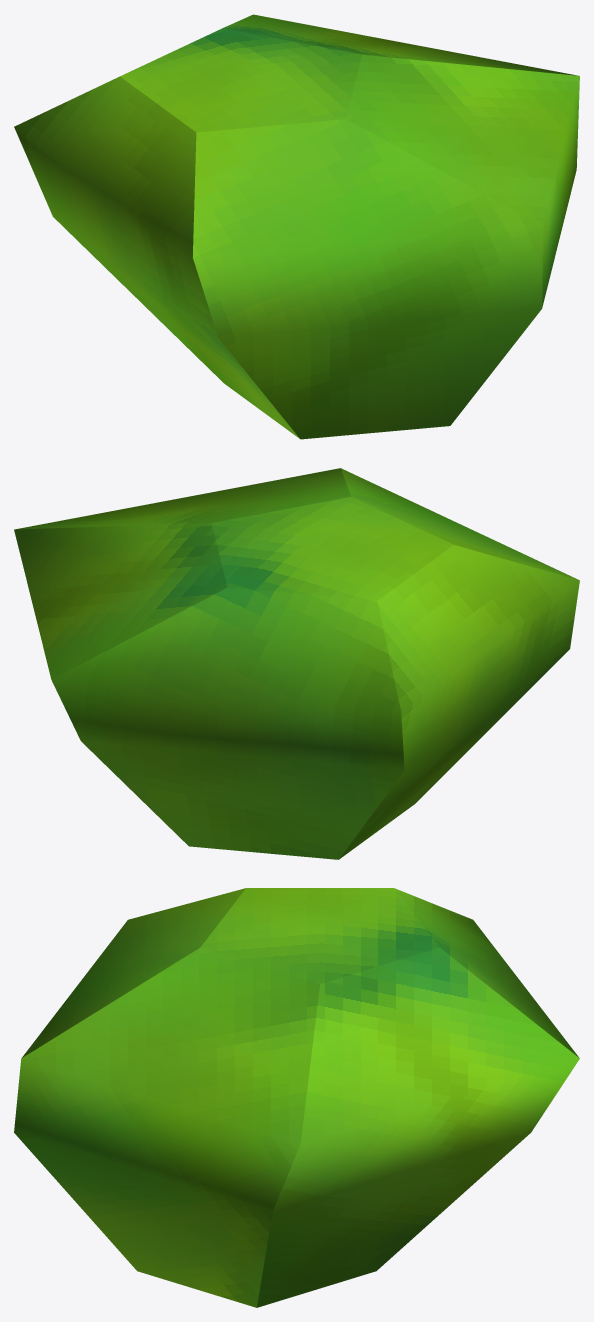
Rendered from model_bush1_basic.fbx.
3 views of the same model, one above another, from view 1: azimuth 30°, elevation 25°; view 2: azimuth 150°, elevation 25°; view 3: azimuth 270°, elevation 25° (orthographic). The views are drawn at different scales.
Parts seen in each view (by area): view 1: SM_Bush1; view 2: SM_Bush1; view 3: SM_Bush1.
Boxes of the visible parts, left/top/right/bottom form: SM_Bush1: left=14, top=14, right=579, bottom=439; SM_Bush1: left=14, top=468, right=579, bottom=859; SM_Bush1: left=14, top=888, right=579, bottom=1307.
Bounding box in the file's own units: 4.22 × 2.66 × 4.5.
Materials: 1 (1 with a texture image).
